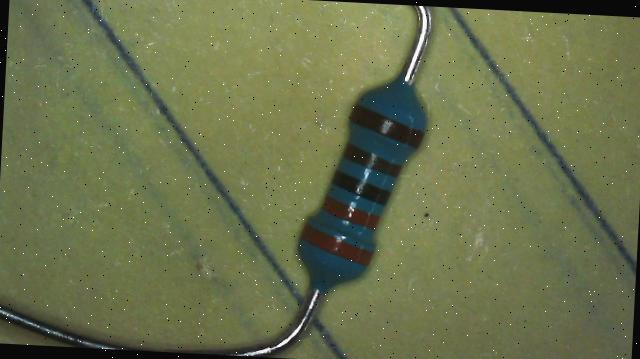black: (330, 170, 390, 205)
brown: (348, 102, 424, 148), (341, 143, 402, 177)
orange: (299, 222, 373, 264), (320, 196, 380, 228)
resistor: (269, 56, 464, 313)
